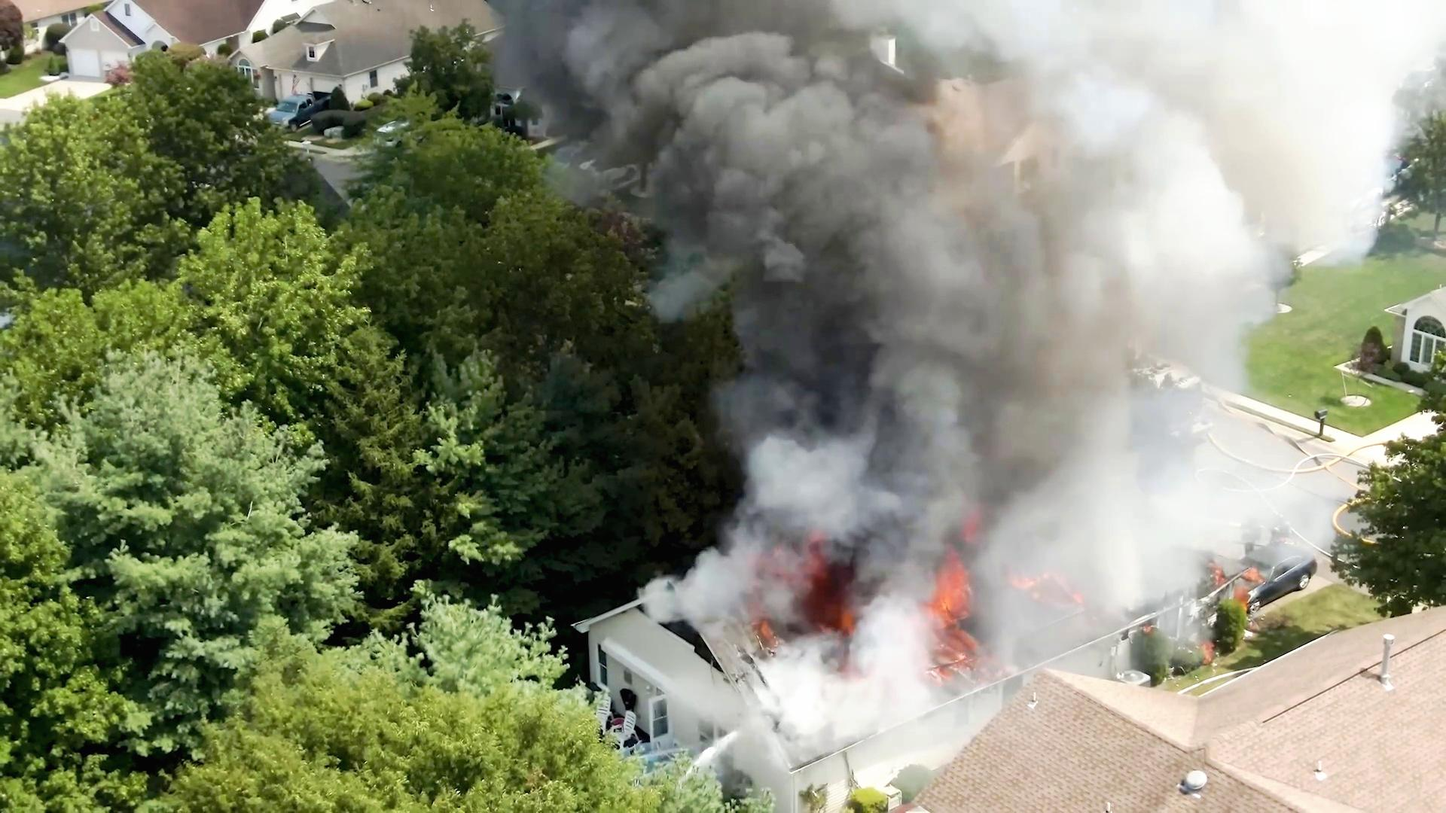smoke: (938, 2, 1350, 234), (765, 202, 1084, 488), (601, 0, 921, 211)
